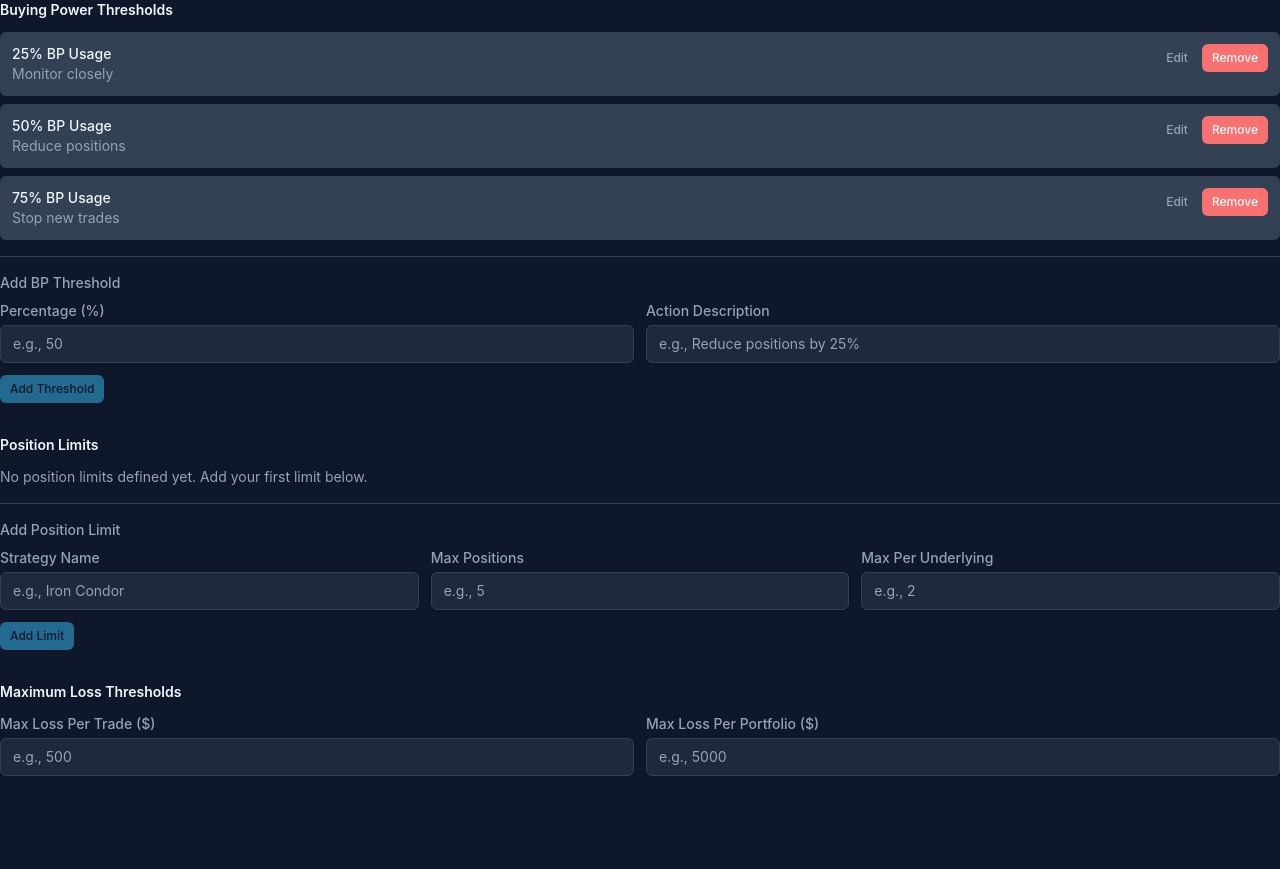
RiskManagementSection › BP Thresholds › shows duplicate error when editing to an existing percentage
Click the button with aria-label "edit threshold: 25%" at (1177, 58), box [1156,44,1198,72]
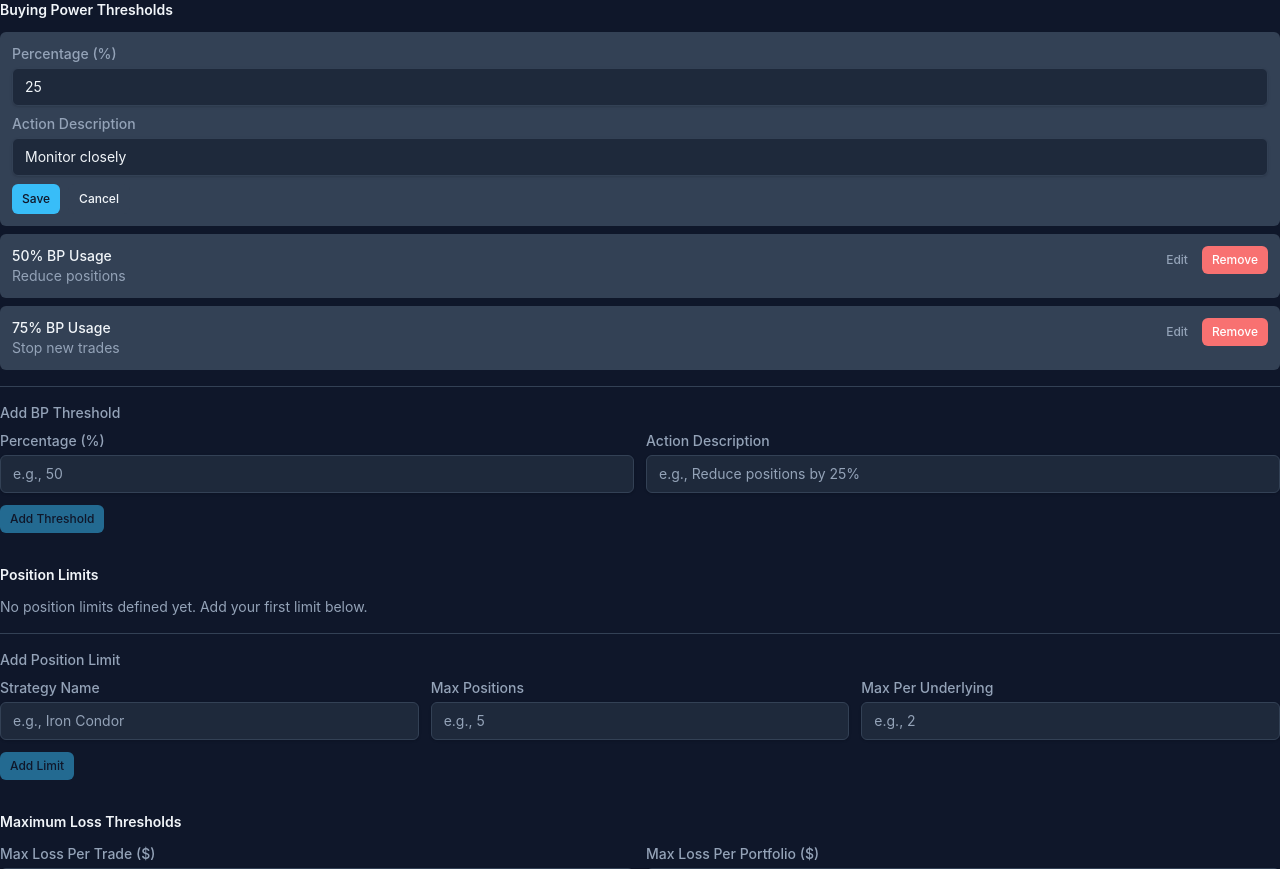
Replace the text in the 1st number field showing "25" with "50" at (640, 87), box [12,68,1268,106]
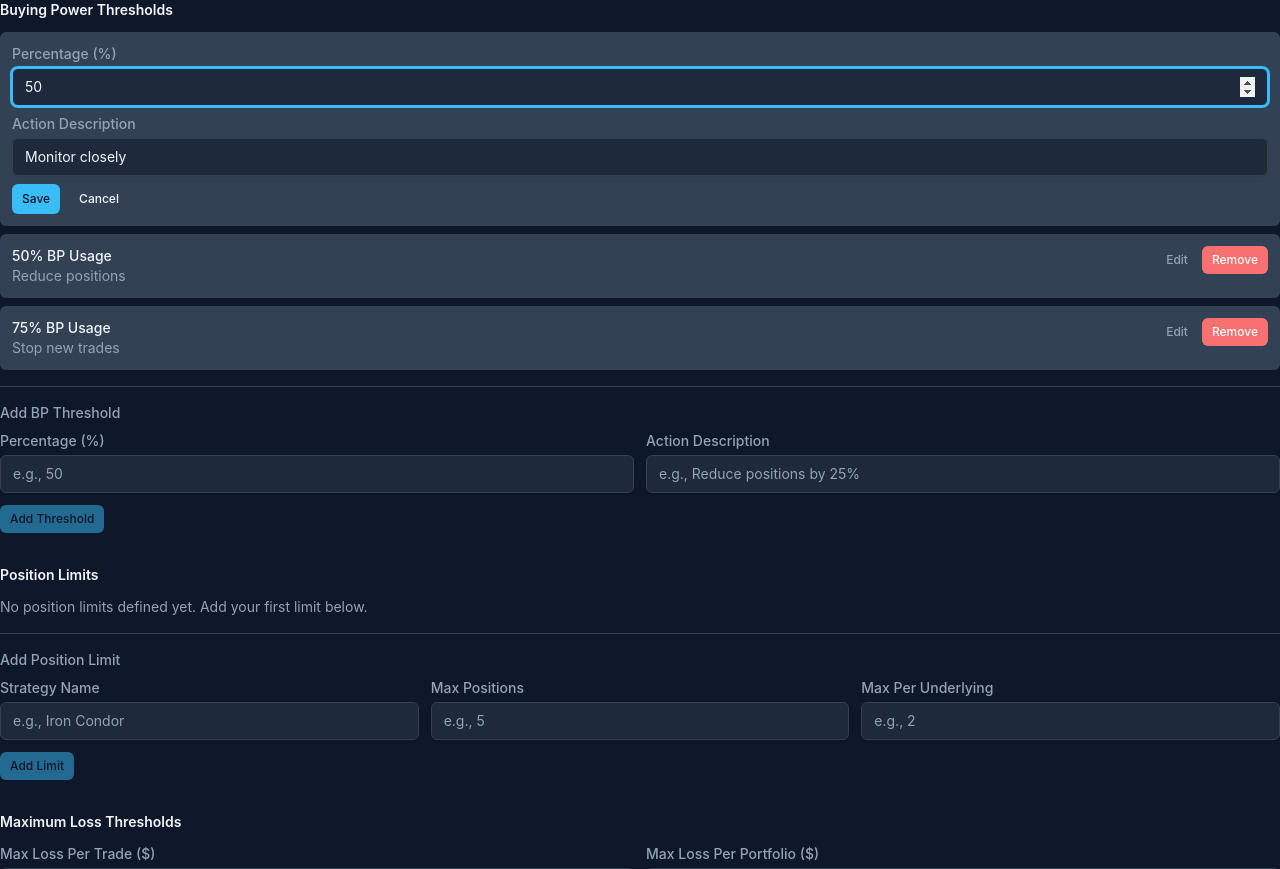
Click the button "Save" at (36, 199), box [12,184,60,214]
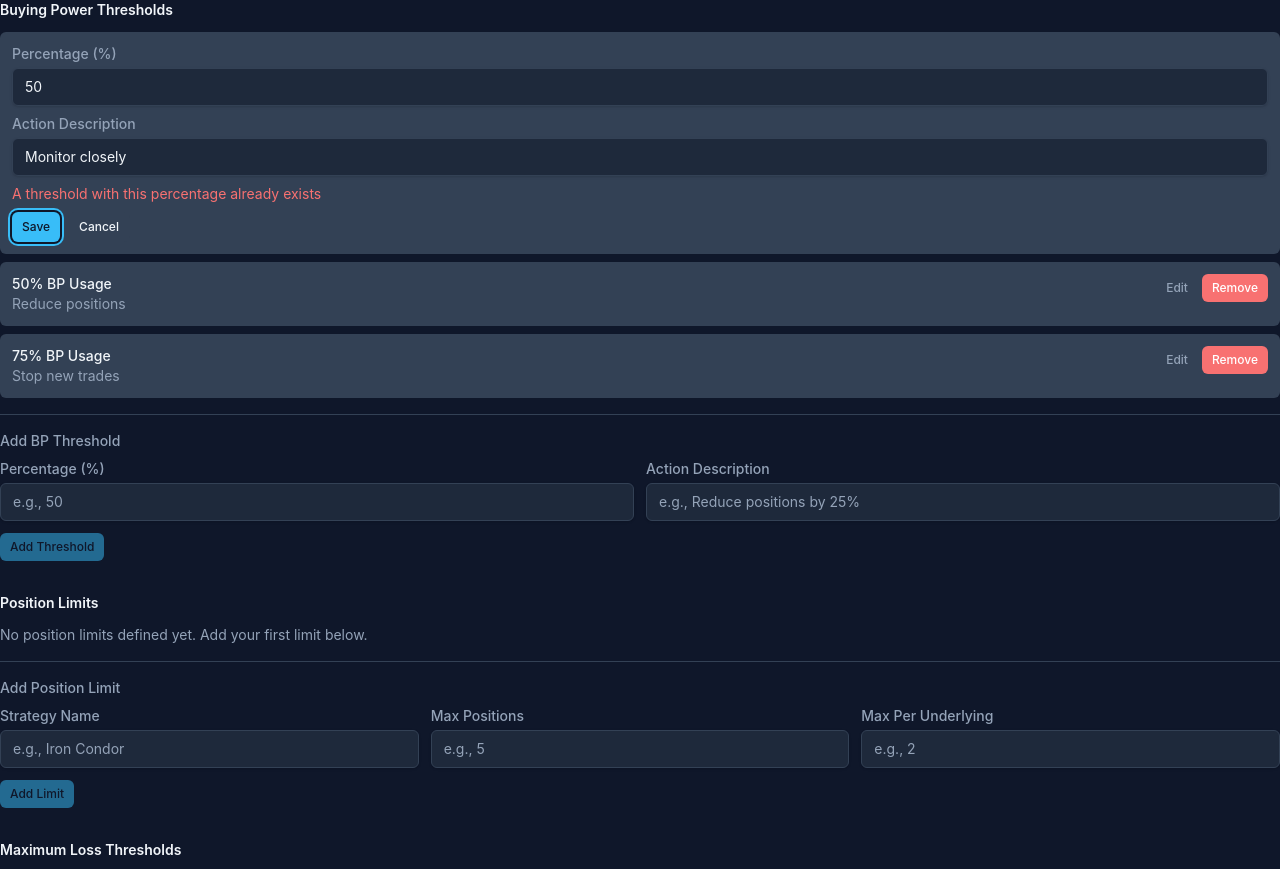
Now the text "A threshold with this percentage already exists" is shown, box [12,185,321,202]
